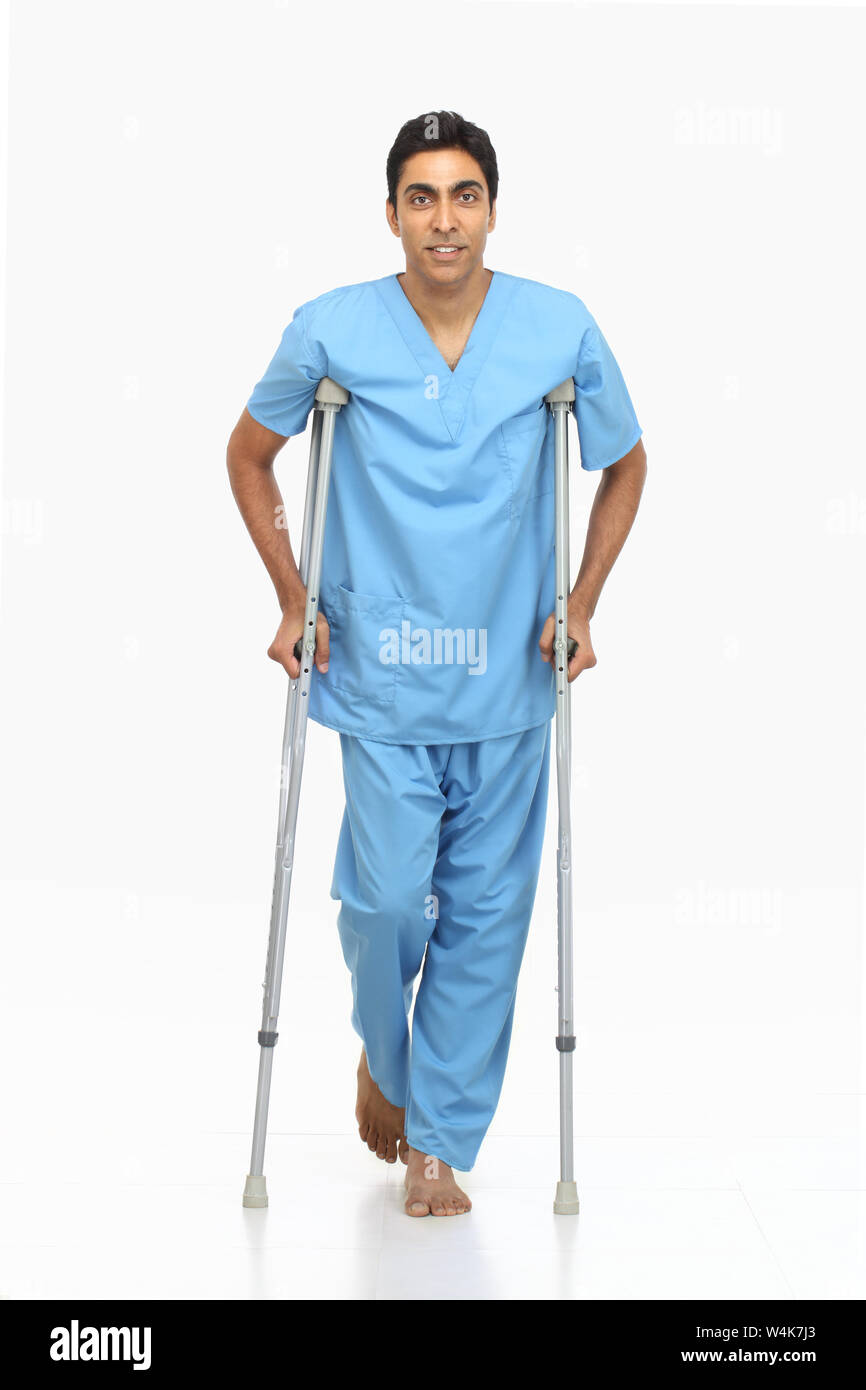crutches: (226, 109, 647, 1213)
